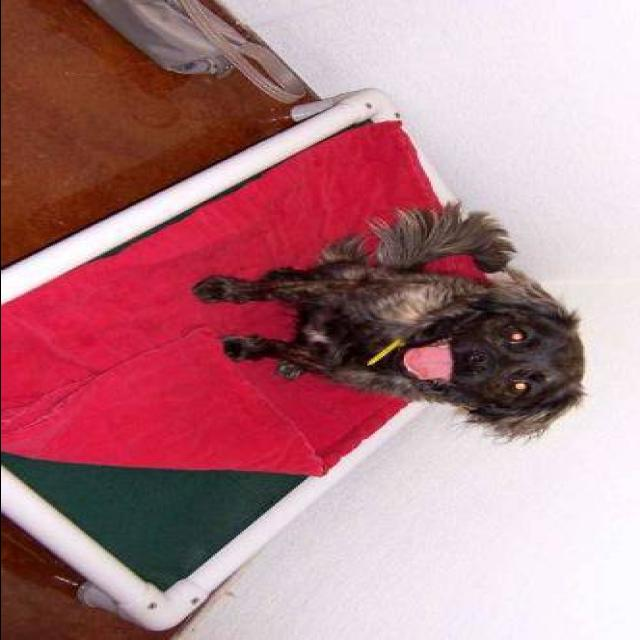dog: (190, 193, 604, 457)
